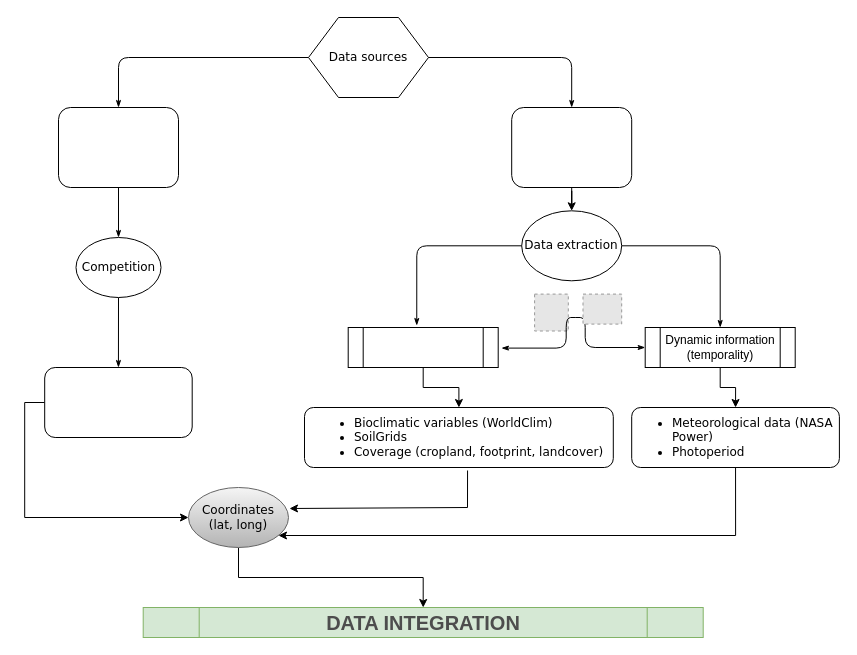
This 857x655 diagram has some shape labels left out. Grey dashed boxes stand in for pictures. The shapes that lost their labels are listed below. From the top down, each one's box as (x1, y1, x2, y2) in pixels, then its label:
(58, 106, 178, 188): Internal data
(511, 106, 632, 188): External data
(347, 326, 498, 368): Static or fixed information
(44, 366, 192, 438): Japan Switzerland USA (WDC, NY) Canada USA - NPN
